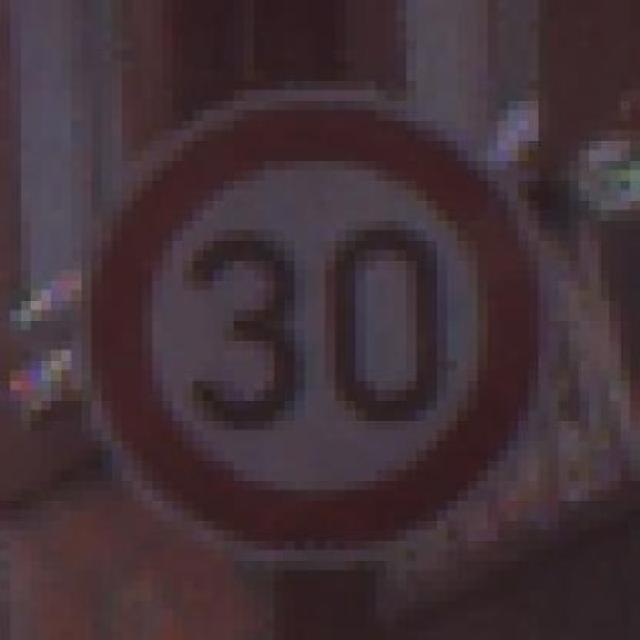Speed Limit 30 KMPh: (31, 79, 589, 570)
